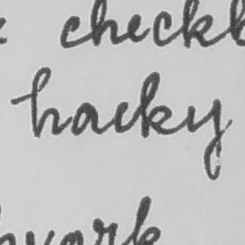a: (69, 100, 101, 139)
c: (111, 97, 131, 136)
h: (28, 65, 64, 140)
k: (137, 68, 175, 140)
y: (184, 96, 225, 181)
